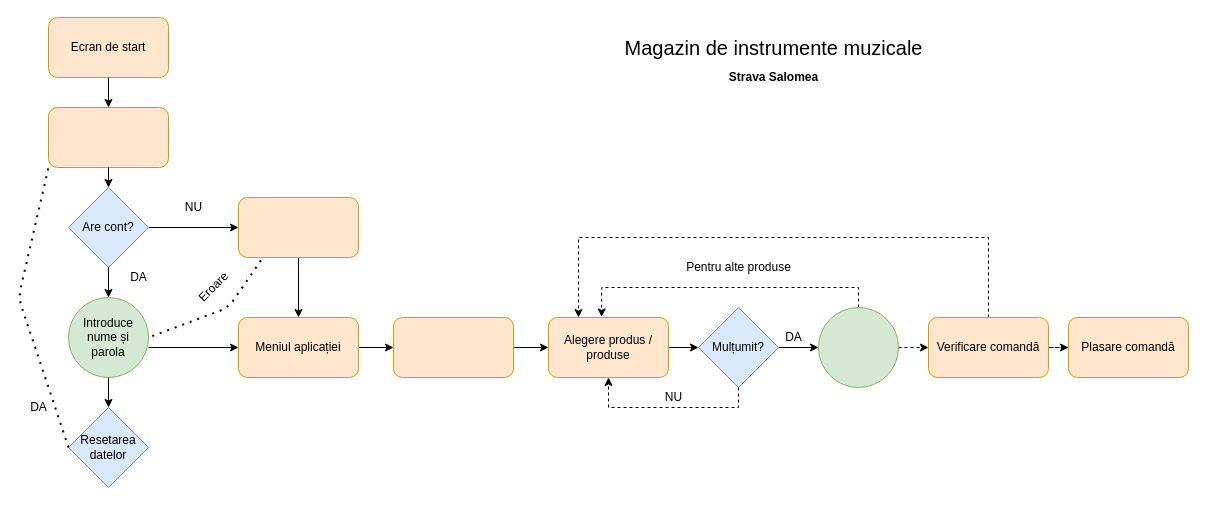
Some shapes in this 1206 by 505 pixel diagram are drawn without their labels. Here are the shapes that lost their labels. From the top down, the centre of each, then its label:
point 108,137: Login / sing in
point 298,227: Sing up
point 453,347: Alegere categorie
point 858,347: Adăugare produse în coș
